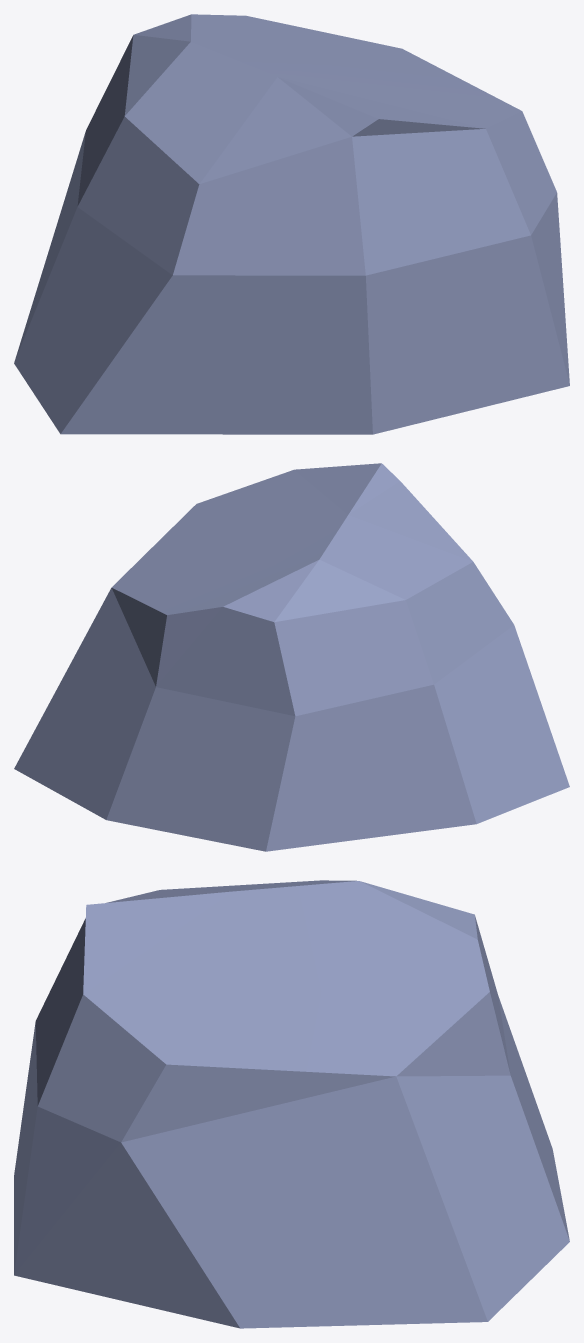
The model's file is Rock_41.fbx.
3 views of the same model, one above another, from view 1: azimuth 30°, elevation 25°; view 2: azimuth 150°, elevation 25°; view 3: azimuth 270°, elevation 25° (orthographic). The views are drawn at different scales.
Visible parts, largest first — view 1: Rock_41; view 2: Rock_41; view 3: Rock_41.
Boxes of the visible parts, left/top/right/bottom form: Rock_41: left=14, top=14, right=569, bottom=434; Rock_41: left=14, top=463, right=569, bottom=851; Rock_41: left=14, top=880, right=569, bottom=1328.
Bounding box in the file's own units: 2.31 × 1.19 × 2.04.
